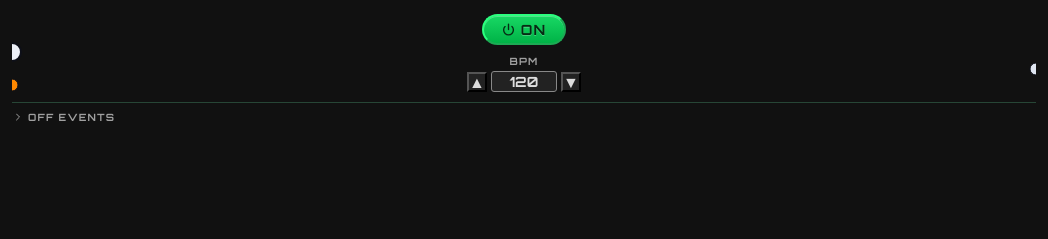
Scenario: ClockFlowNode OFF section collapsible › toggles only OFF advanced settings while BPM stays visible
Check: the text "BPM" is shown, box [509,55,538,67]
Check: the text "send OFF" is not shown
# Toggle area: the row containing the caret and OFF events label
Click the element showing "OFF events".
click(64, 117)  # box [12,111,115,123]
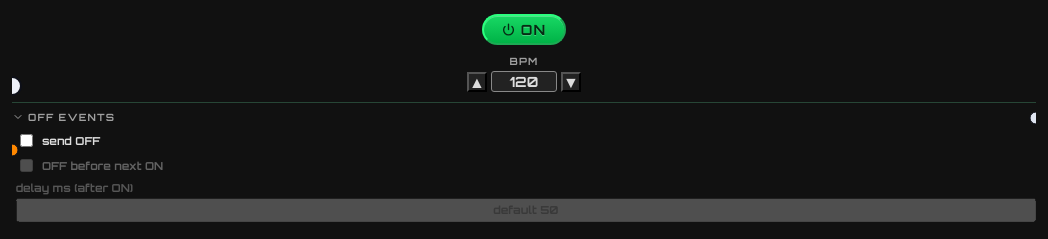
Check: the checkbox labelled "send OFF" is shown, box [20,134,33,147]
Click the element showing "OFF events".
click(64, 117)  # box [12,111,115,123]
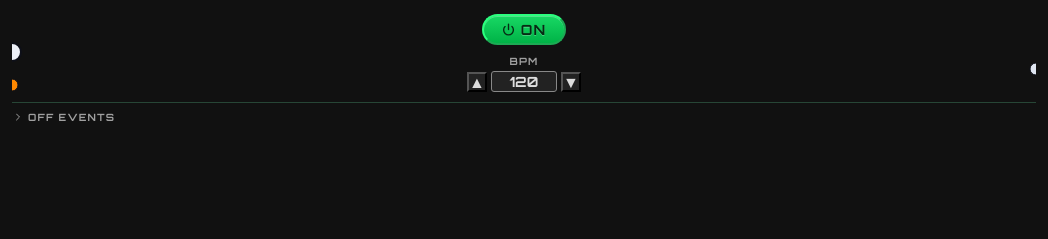
Check: the text "BPM" is shown, box [509,55,538,67]
Check: the text "send OFF" is gone
